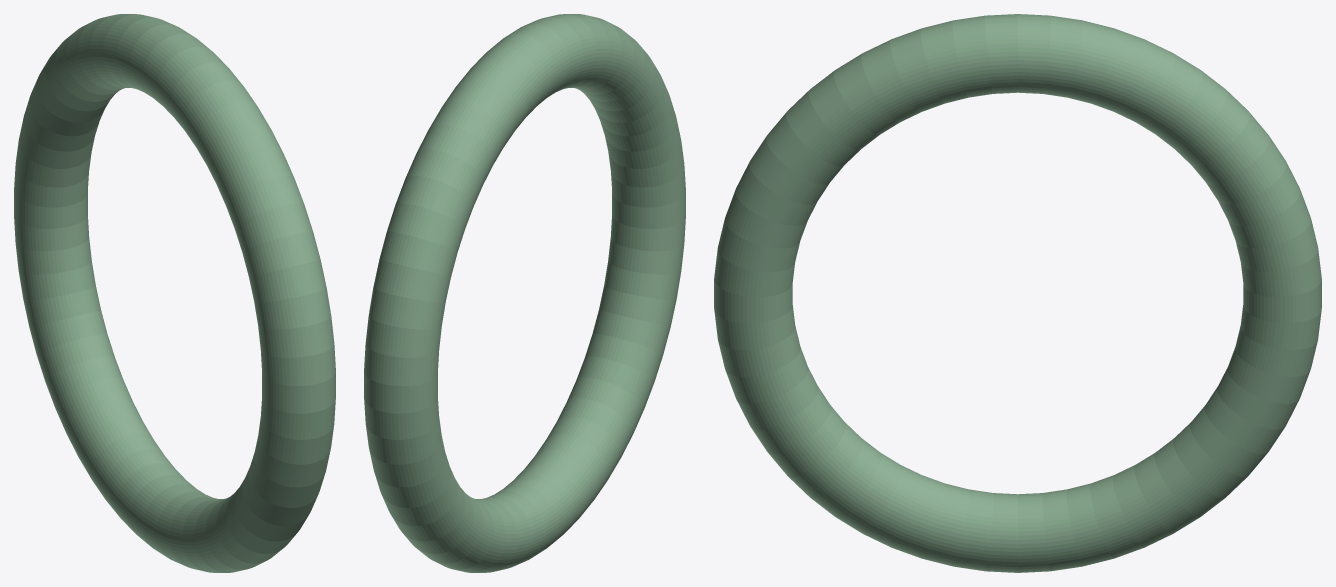
The model's file is ac-compressor-manifold-suction-seal.glb.
The picture shows the model from 3 angles, left to right: view 1: azimuth 30°, elevation 25°; view 2: azimuth 150°, elevation 25°; view 3: azimuth 270°, elevation 25°; orthographic projection. The views are drawn at different scales.
Visible parts, largest first — view 1: world; view 2: world; view 3: world.
Part boxes in pixels (x1,y1,x2,y2): world: (14,14,335,572); world: (364,14,685,572); world: (714,14,1321,572).
Size of the model in its own units: 0.00353 by 0.0273 by 0.0272.
